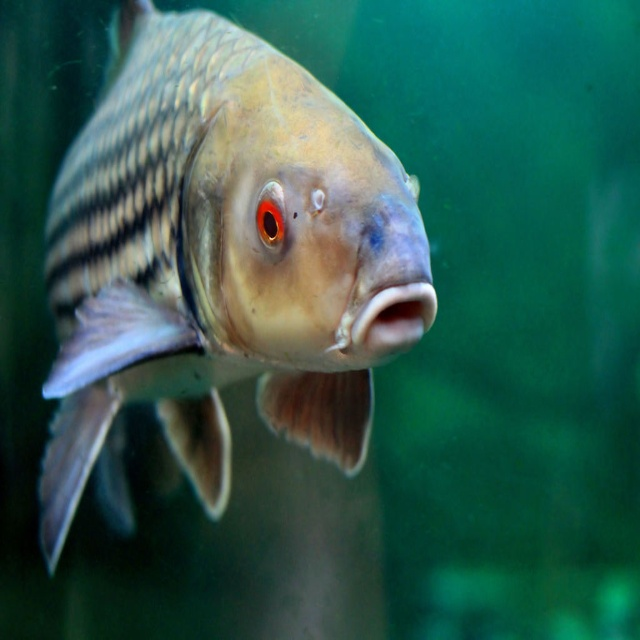Fish: (34, 2, 435, 575)
